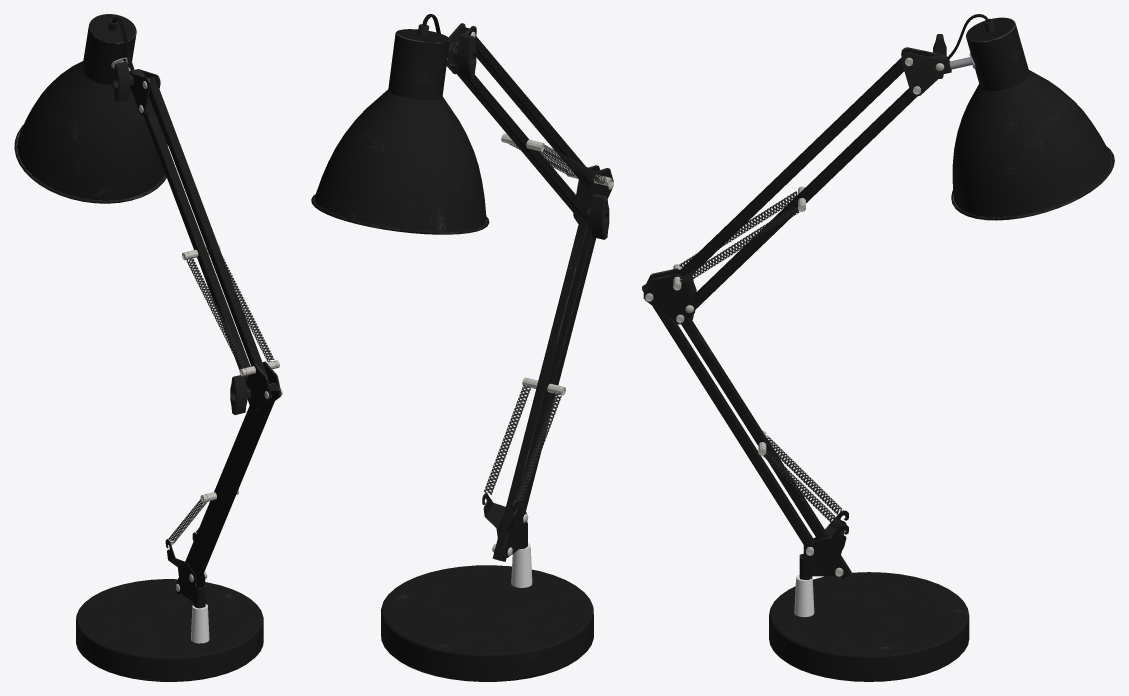
The model's file is tablelamp1.glb.
The picture shows the model from 3 angles, left to right: view 1: azimuth 30°, elevation 25°; view 2: azimuth 150°, elevation 25°; view 3: azimuth 270°, elevation 25°; orthographic projection. The views are drawn at different scales.
Parts seen in each view (by area): view 1: stand_lamp_black:group1 (×15), stand_lamp_black:polySurface9stand_lamp_s; view 2: stand_lamp_black:group1 (×14), stand_lamp_black:polySurface9stand_lamp_s; view 3: stand_lamp_black:group1 (×14).
Boxes of the visible parts, bbox=[...] form: stand_lamp_black:group1 (×15): bbox=[14, 14, 279, 681]; stand_lamp_black:polySurface9stand_lamp_s: bbox=[113, 61, 133, 102]; stand_lamp_black:group1 (×14): bbox=[311, 26, 613, 681]; stand_lamp_black:polySurface9stand_lamp_s: bbox=[453, 33, 476, 79]; stand_lamp_black:group1 (×14): bbox=[642, 17, 1114, 681].
Size of the model in its own units: 20 by 68.91 by 47.14.
Materials: 1 (1 with a texture image).
